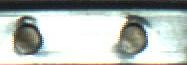joints: (8, 14, 44, 56)
press: (78, 13, 173, 65)
